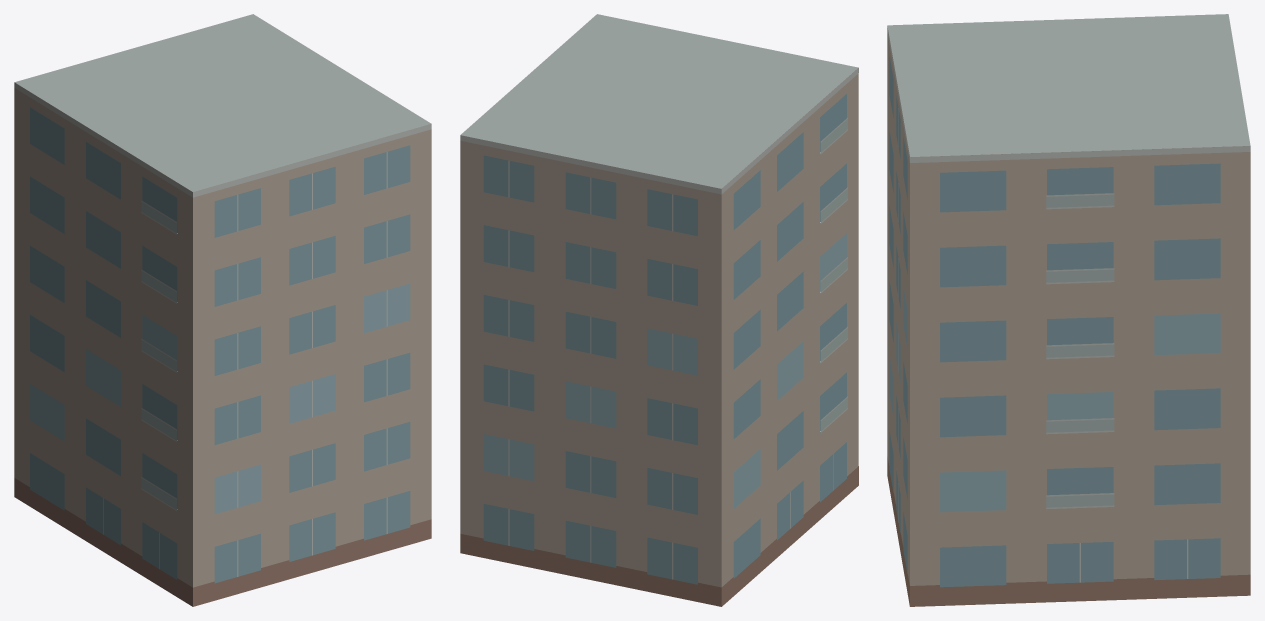
Rendered from survey-upis-33017439.glb.
3 renders of one model, left to right at view 1: azimuth 30°, elevation 25°; view 2: azimuth 150°, elevation 25°; view 3: azimuth 270°, elevation 25°, orthographic. The views are drawn at different scales.
Visible parts, largest first — view 1: survey-upis-33017439.tmp; view 2: survey-upis-33017439.tmp; view 3: survey-upis-33017439.tmp.
Part boxes in pixels (x1,y1,x2,y2): survey-upis-33017439.tmp: (14, 14, 431, 606); survey-upis-33017439.tmp: (460, 14, 858, 606); survey-upis-33017439.tmp: (887, 14, 1250, 606).
Size of the model in its own units: 12.5 by 18.3 by 13.41.
